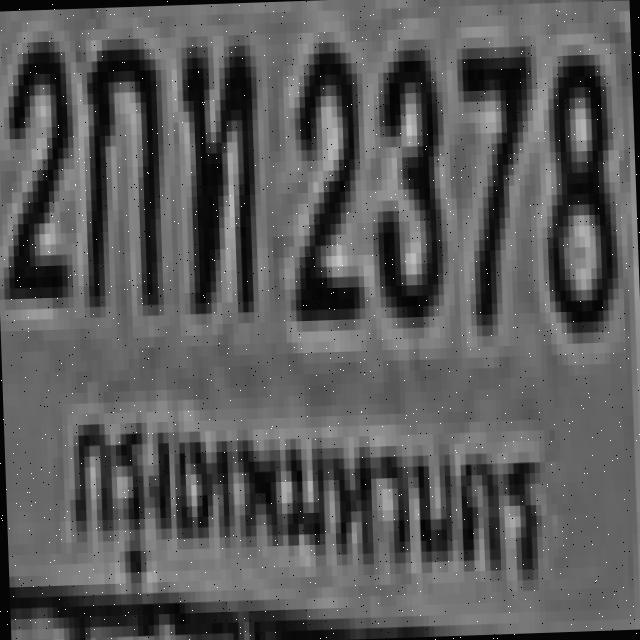10GorGai: (74, 27, 164, 307)
2: (281, 31, 360, 310), (0, 30, 72, 288)
3: (366, 39, 444, 318)
32ThorThaHan: (175, 34, 258, 304)
7: (456, 36, 534, 326)
8: (535, 43, 614, 323)
Bangkok: (54, 374, 559, 628)
